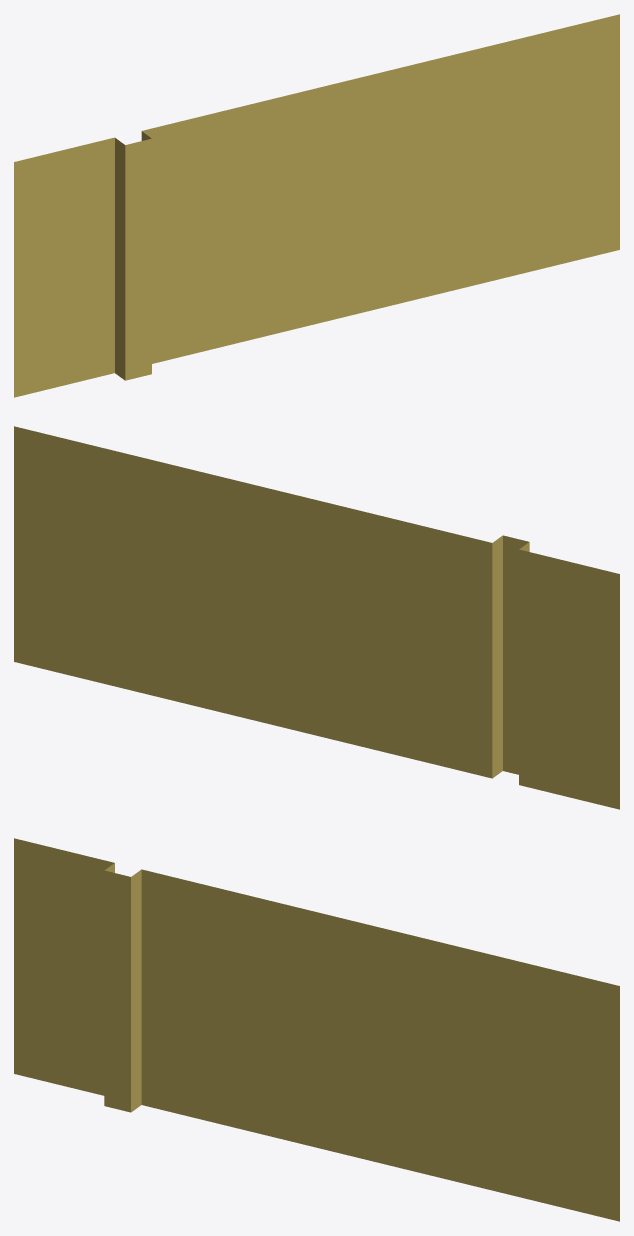
The model's file is wall-north.dae.
3 renders of one model, top to bottom at view 1: azimuth 30°, elevation 25°; view 2: azimuth 150°, elevation 25°; view 3: azimuth 330°, elevation 25°, orthographic.
Parts seen in each view (by area): view 1: wall-north; view 2: wall-north; view 3: wall-north.
Part boxes in pixels (x1,y1,x2,y2): wall-north: (14,14,619,397); wall-north: (14,426,619,809); wall-north: (14,838,619,1221).
Size of the model in its own units: 5.16 by 0.1537 by 1.92.
